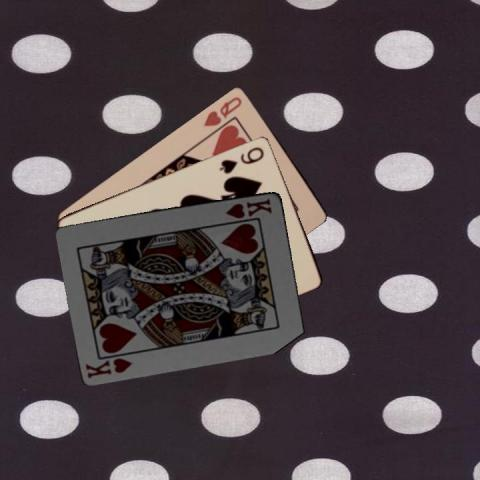9s: (217, 144, 266, 176)
Kh: (82, 354, 134, 379), (223, 195, 274, 220)
Qh: (201, 93, 243, 128)
